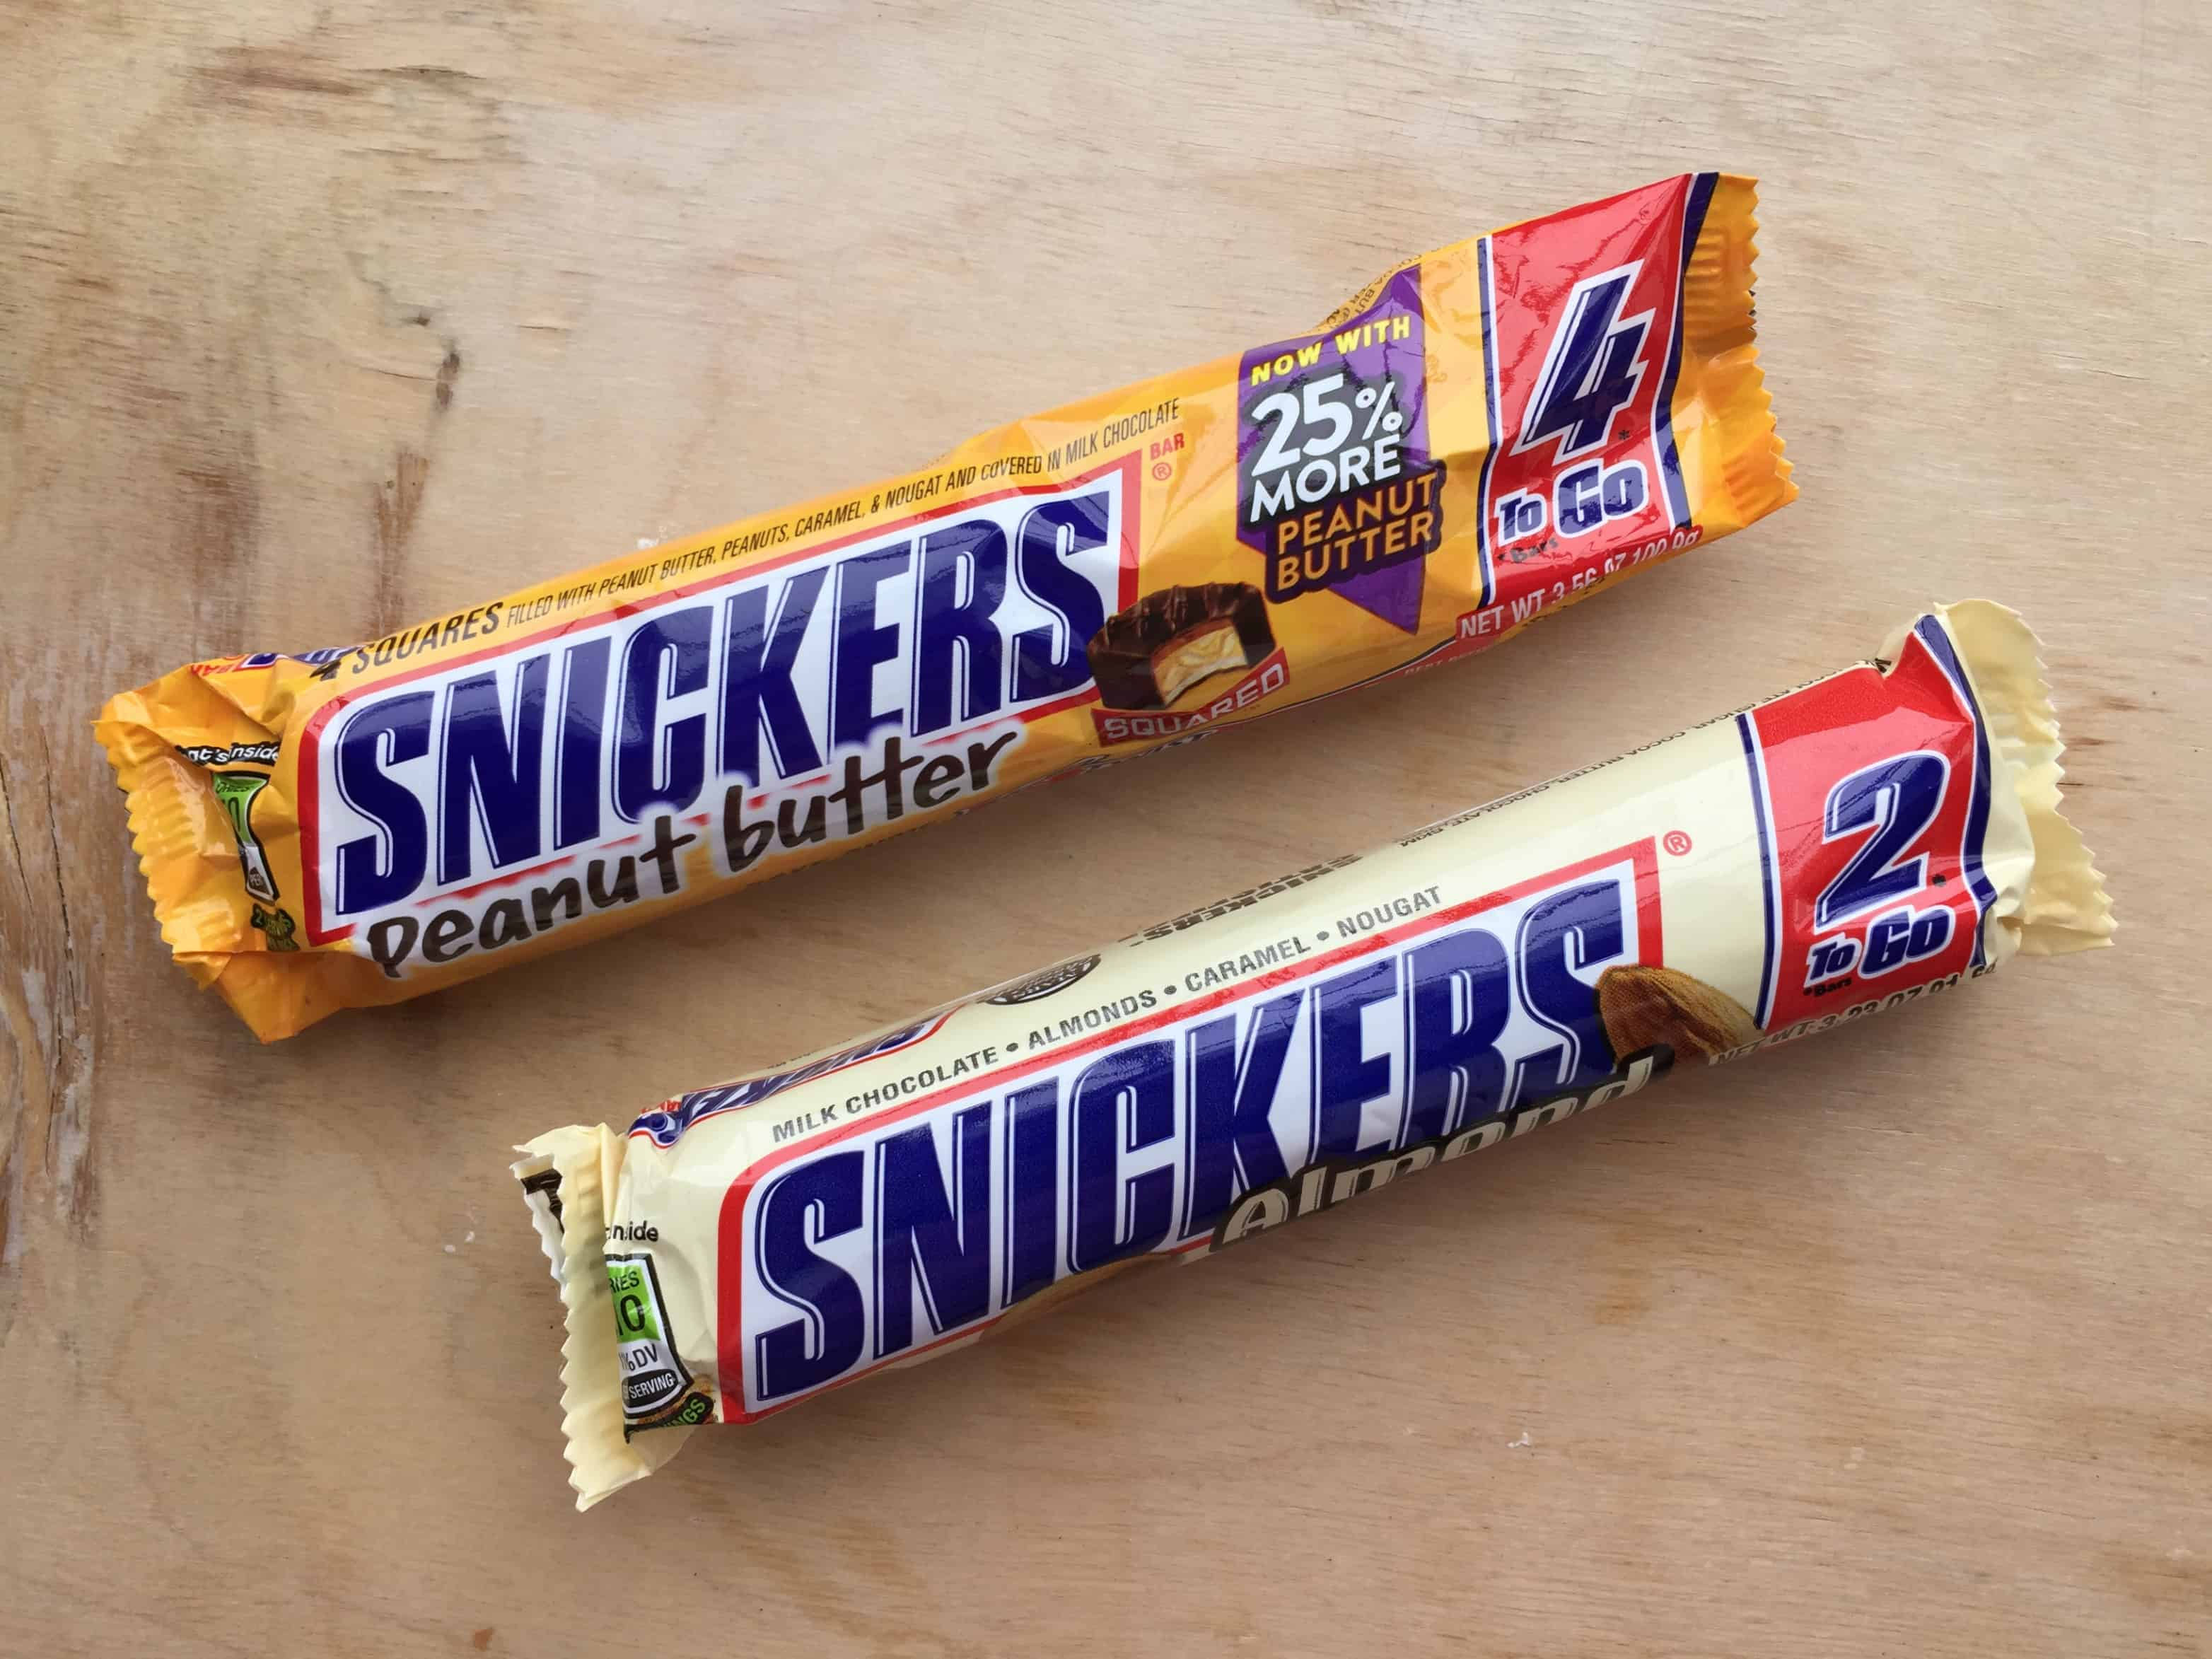snickers: (752, 871, 1630, 1398), (333, 484, 1116, 913)
